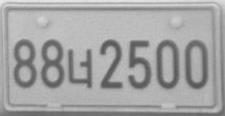0: (183, 38, 209, 89), (155, 39, 180, 89)
2: (98, 38, 123, 88)
5: (126, 39, 151, 90)
8: (39, 38, 65, 89), (12, 38, 37, 88)
너: (67, 48, 93, 89)
